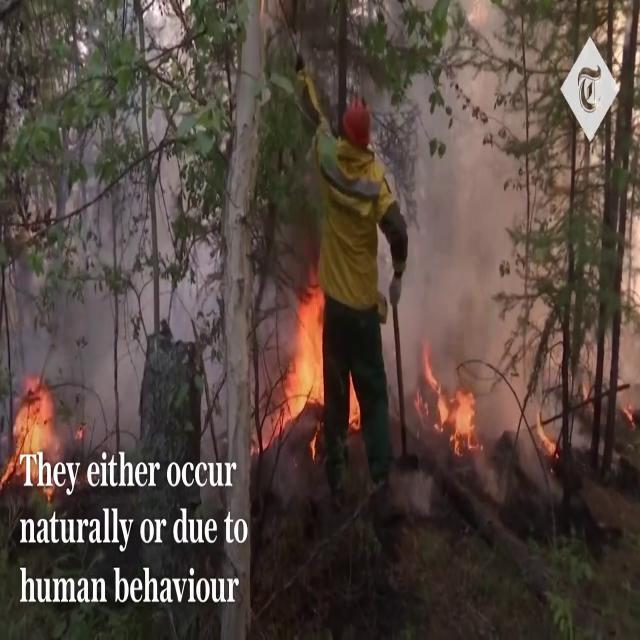Fire: (274, 272, 330, 436), (416, 344, 480, 458), (2, 378, 66, 482)
Smoke: (0, 75, 260, 413), (393, 48, 539, 437)
